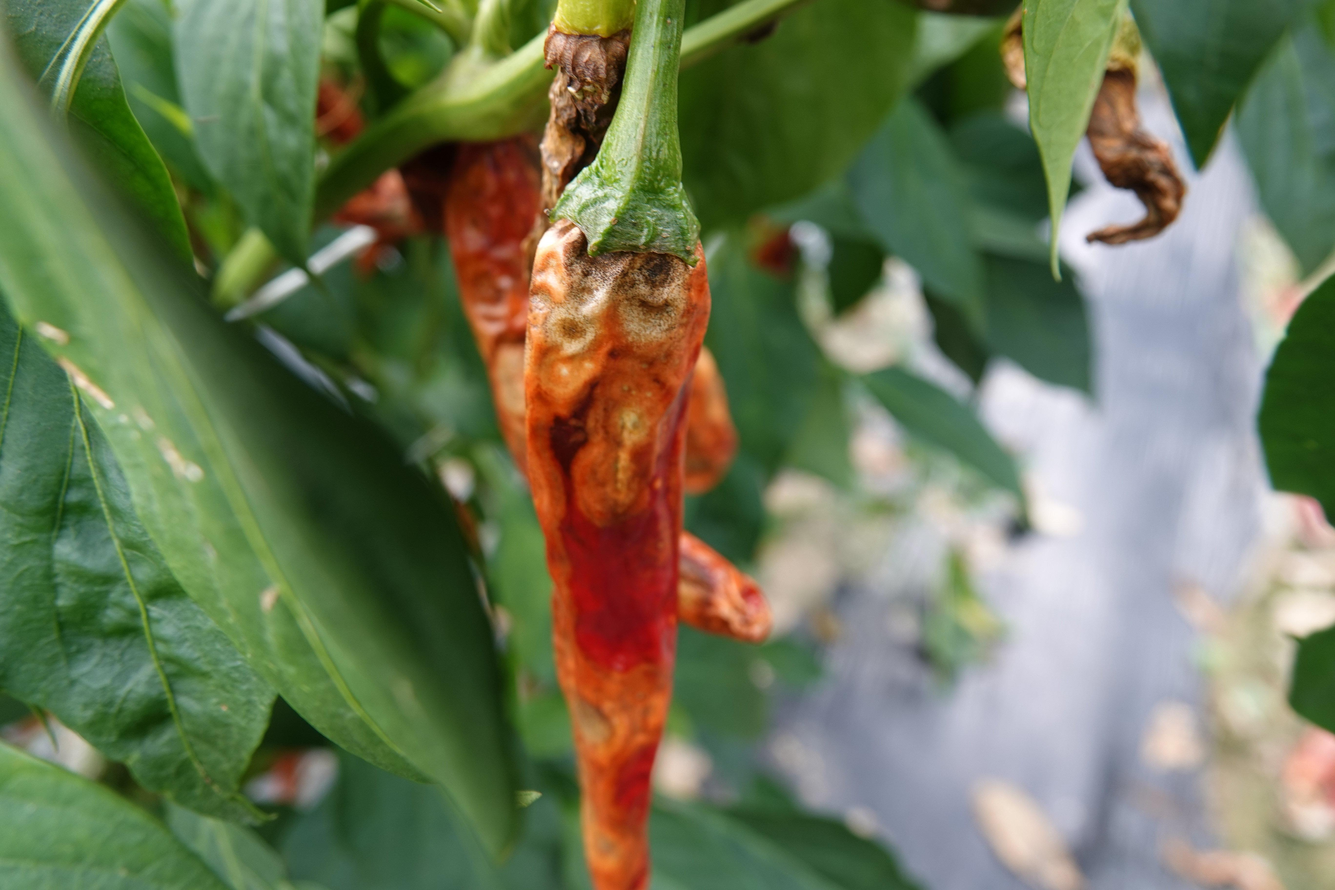Busuk Buah Antraknosa: (517, 176, 719, 890)
